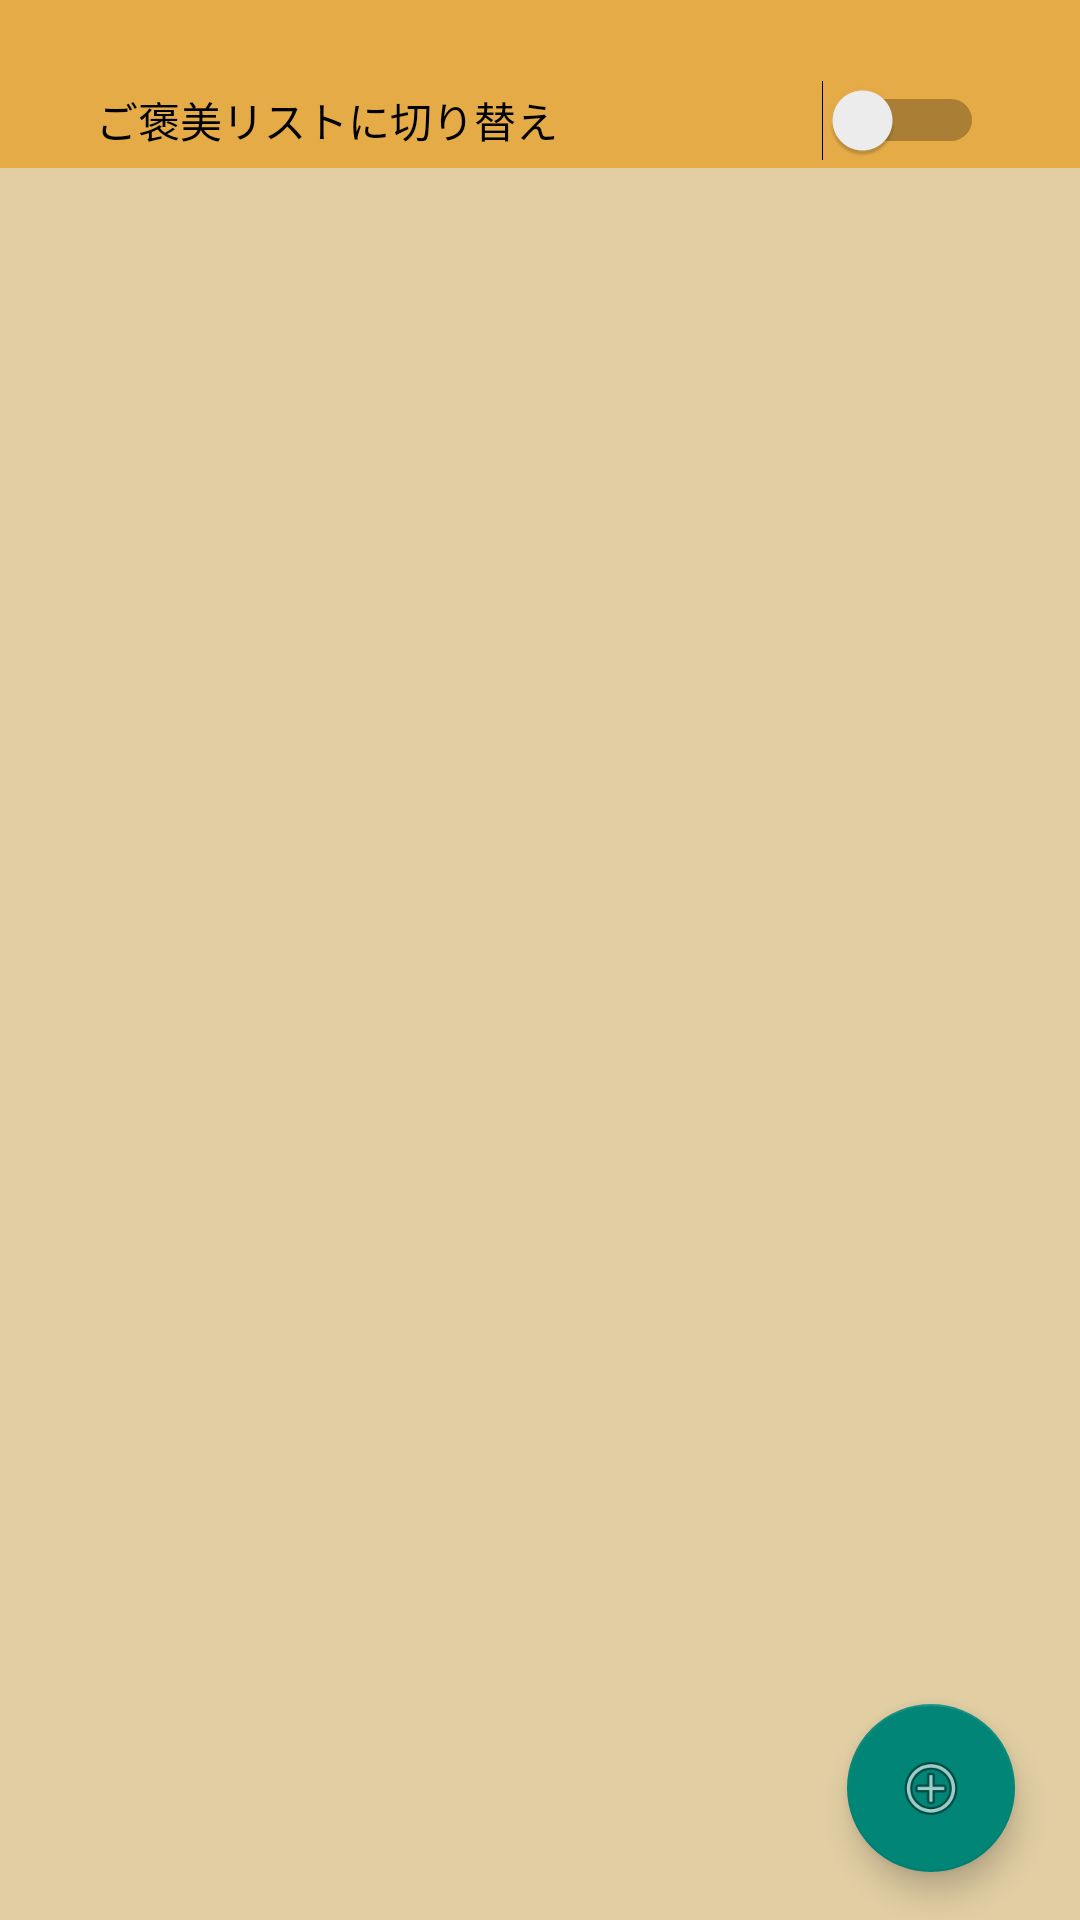

Locate icon controls on the screen. Image size 1080x1920, boxes as {"left": x1, "top": y1, "right": x2, "bottom": y2}.
add: {"left": 847, "top": 1704, "right": 1015, "bottom": 1872}
